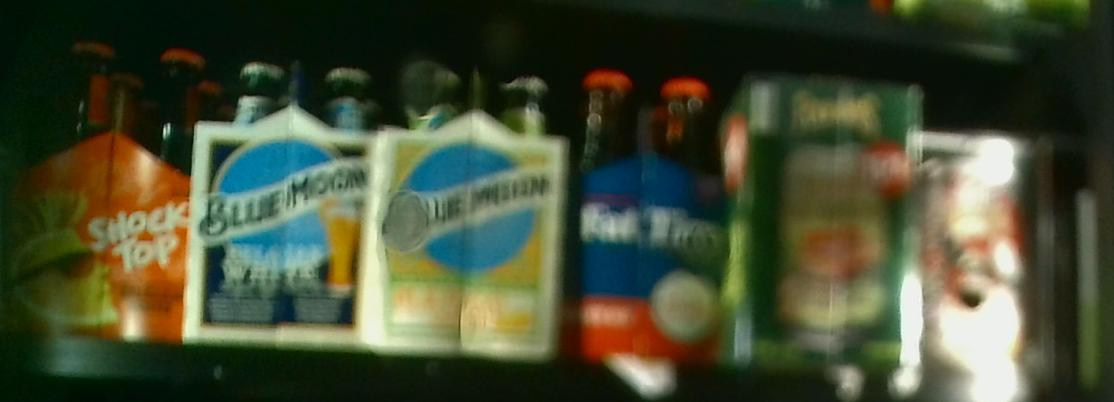bottle: (10, 37, 192, 344), (383, 56, 565, 357), (745, 75, 922, 379), (198, 59, 377, 352), (570, 64, 728, 364)
